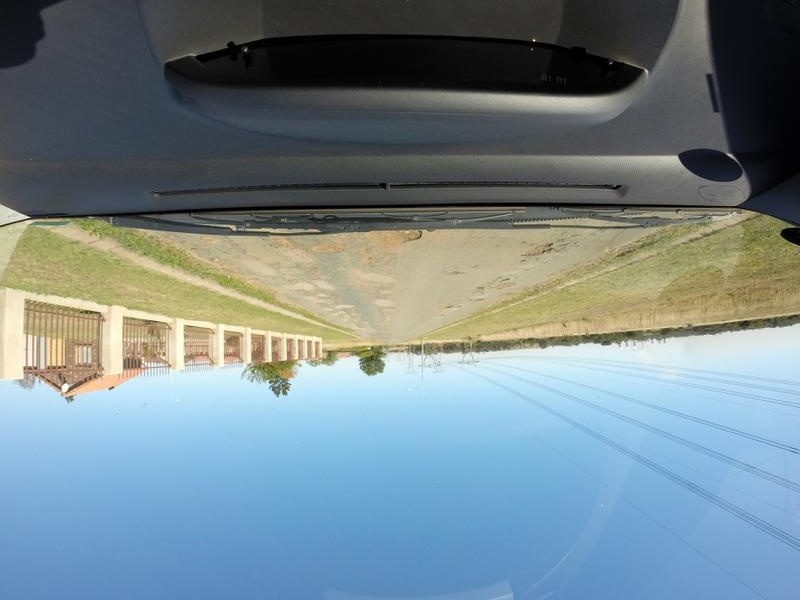pothole: (353, 228, 425, 253), (300, 239, 344, 271), (514, 236, 562, 264), (438, 262, 464, 282)
